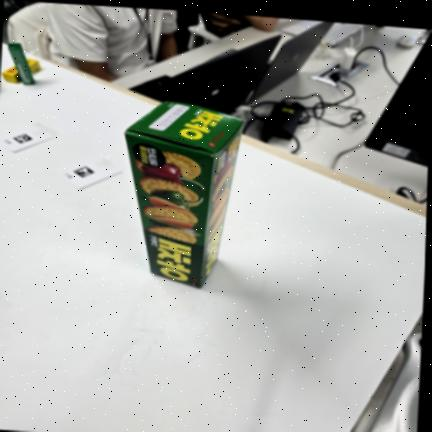cracker_vege: (124, 101, 243, 287)
